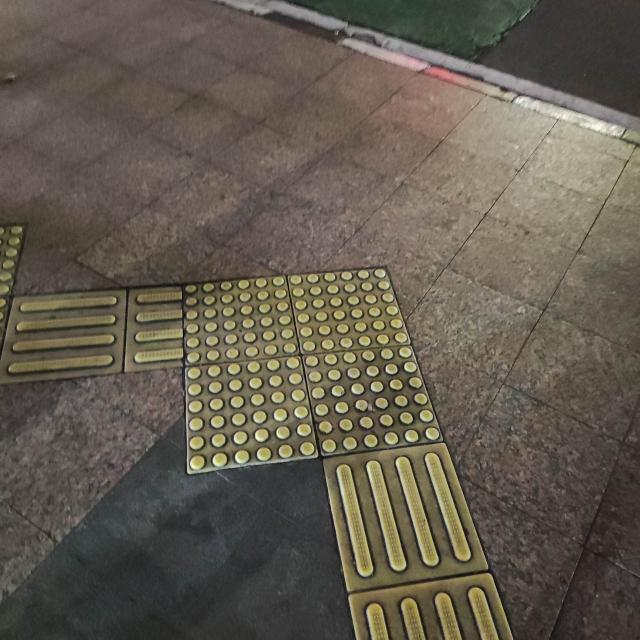kiri: (41, 277, 478, 506)
